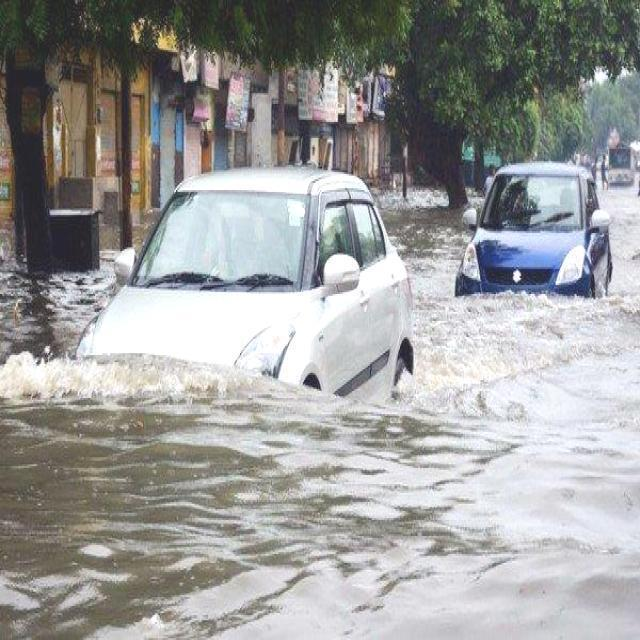water: (2, 188, 637, 636)
